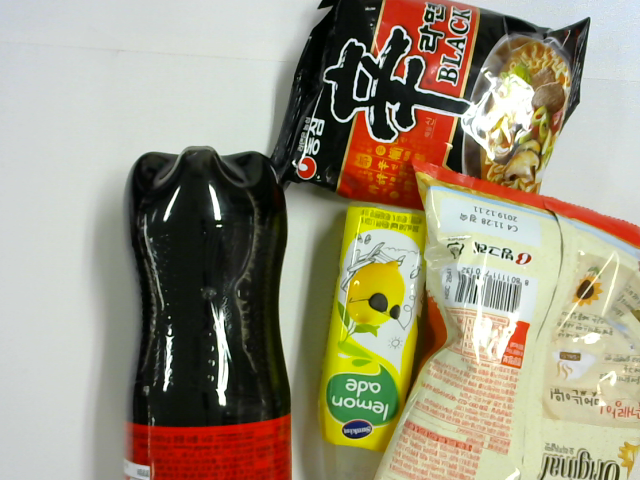Coca_Cola_1.5L: (120, 147, 296, 480)
Crabrang: (369, 156, 636, 480)
Sinramen_Black: (269, 1, 595, 212)
Sunkist_Lemonaid_Pet: (316, 201, 430, 480)
